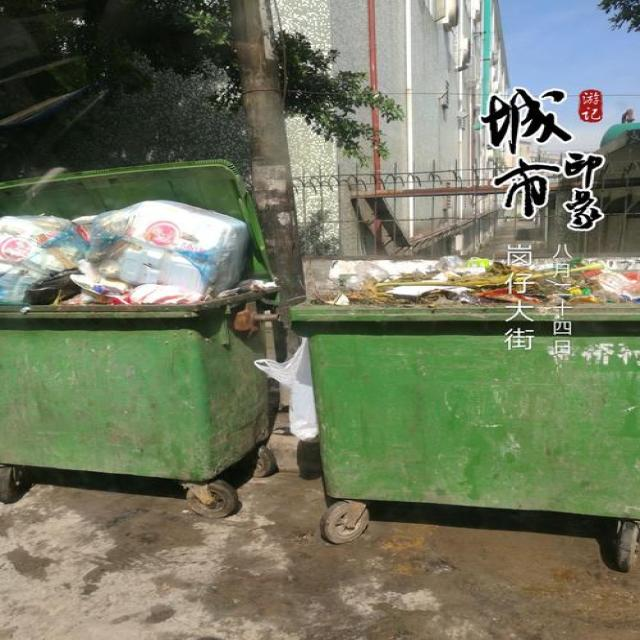overflow: (253, 255, 639, 521), (0, 200, 275, 483)
